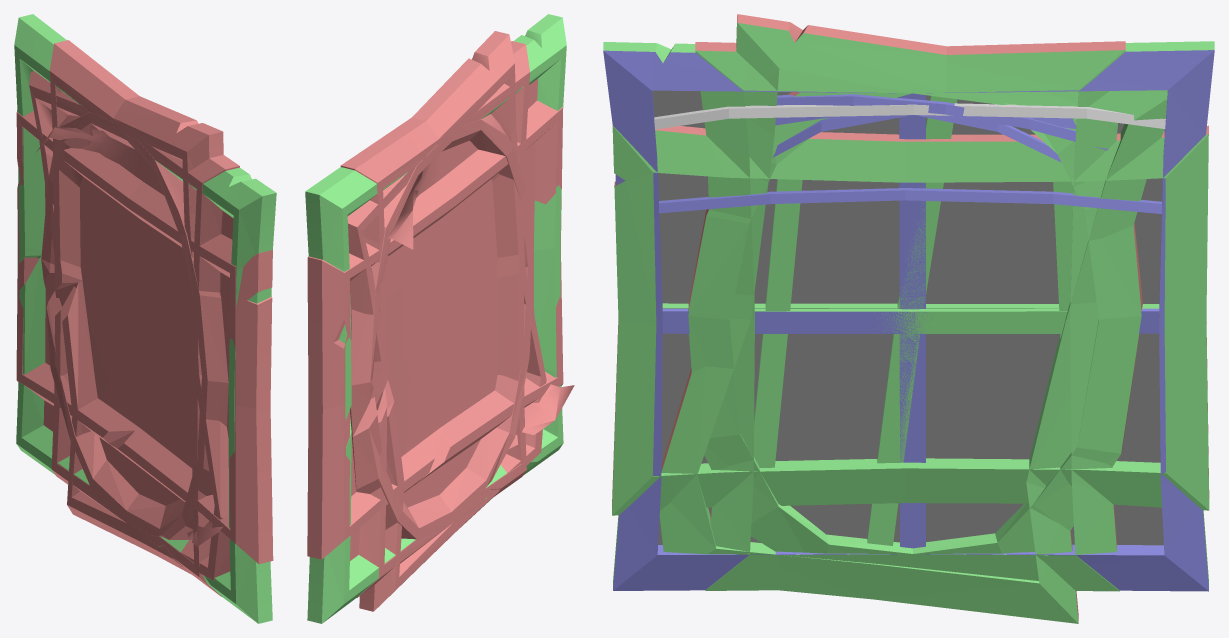
File: Painting.fbx
3 views of the same model, side by side, from view 1: azimuth 30°, elevation 25°; view 2: azimuth 150°, elevation 25°; view 3: azimuth 270°, elevation 25° (orthographic). The views are drawn at different scales.
Visible parts, largest first — view 1: SM_PaintingHori, SM_PaintingRound, SM_PaintingSquare, SM_Painting, SM_PaintingSkew; view 2: SM_PaintingHori, SM_PaintingSquare, SM_PaintingRound, SM_Painting, SM_PaintingSkew; view 3: SM_PaintingHori, SM_PaintingSkew, SM_PaintingSquare, SM_Painting, SM_PaintingRound.
Part boxes in pixels (x1,y1,x2,y2): SM_PaintingHori: (16, 110, 273, 564); SM_PaintingRound: (41, 112, 228, 539); SM_PaintingSquare: (14, 14, 276, 623); SM_Painting: (36, 40, 239, 596); SM_PaintingSkew: (29, 70, 230, 580); SM_PaintingHori: (307, 100, 563, 559); SM_PaintingSquare: (305, 14, 574, 623); SM_PaintingRound: (350, 114, 533, 539); SM_Painting: (340, 41, 529, 597); SM_PaintingSkew: (347, 31, 546, 611); SM_PaintingHori: (612, 125, 1209, 515); SM_PaintingSkew: (659, 14, 1167, 623); SM_PaintingSquare: (603, 41, 1214, 591); SM_Painting: (695, 41, 1125, 591); SM_PaintingRound: (688, 92, 1142, 553).
Size of the model in its own units: 32.77 by 227 by 209.
